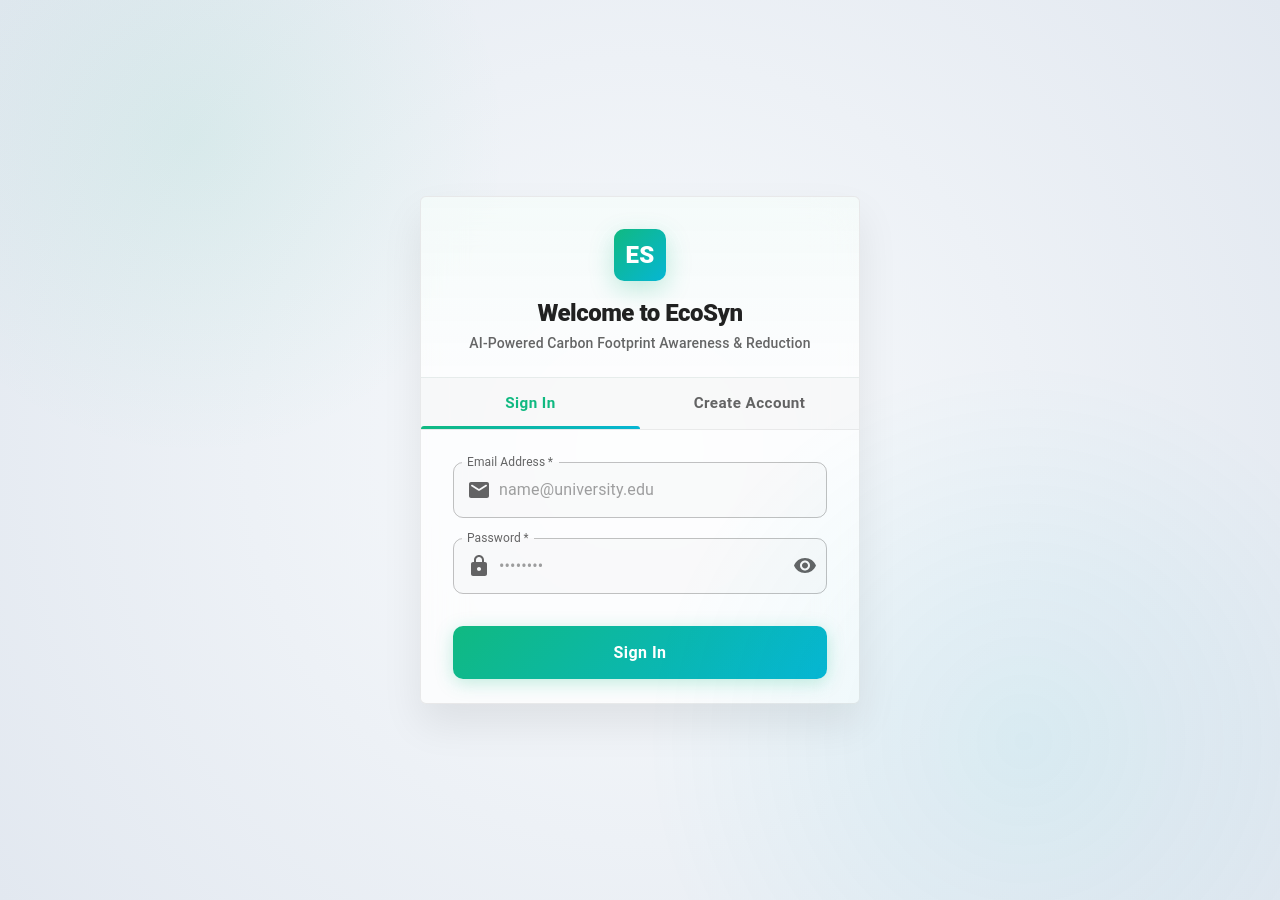
Test case: requires a name when creating an account
Click the tab "Create Account": (750, 403) x1=640 y1=378 x2=859 y2=429
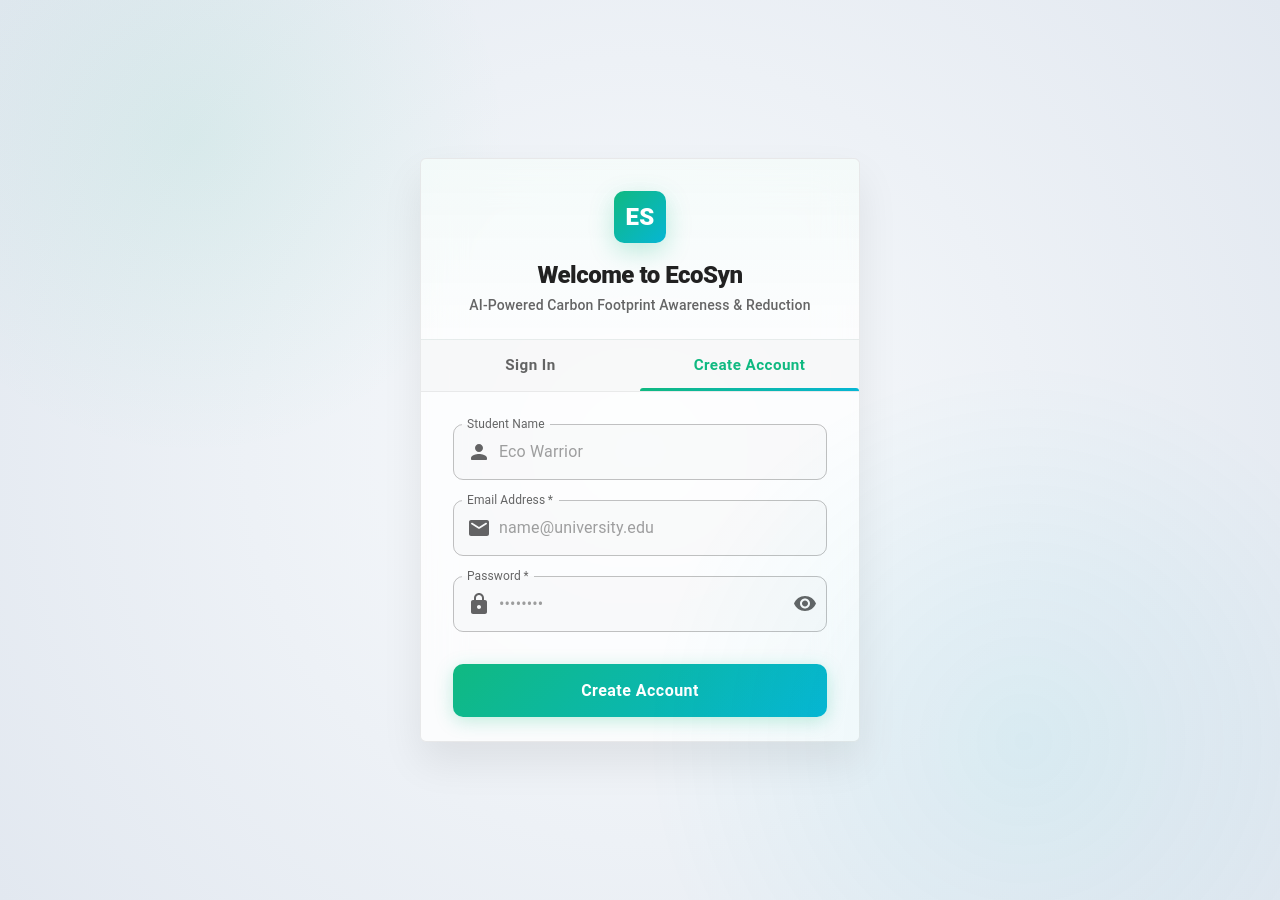
In the field labelled "Email Address *": (663, 528) x1=499 y1=500 x2=827 y2=556, type "student@example.com"
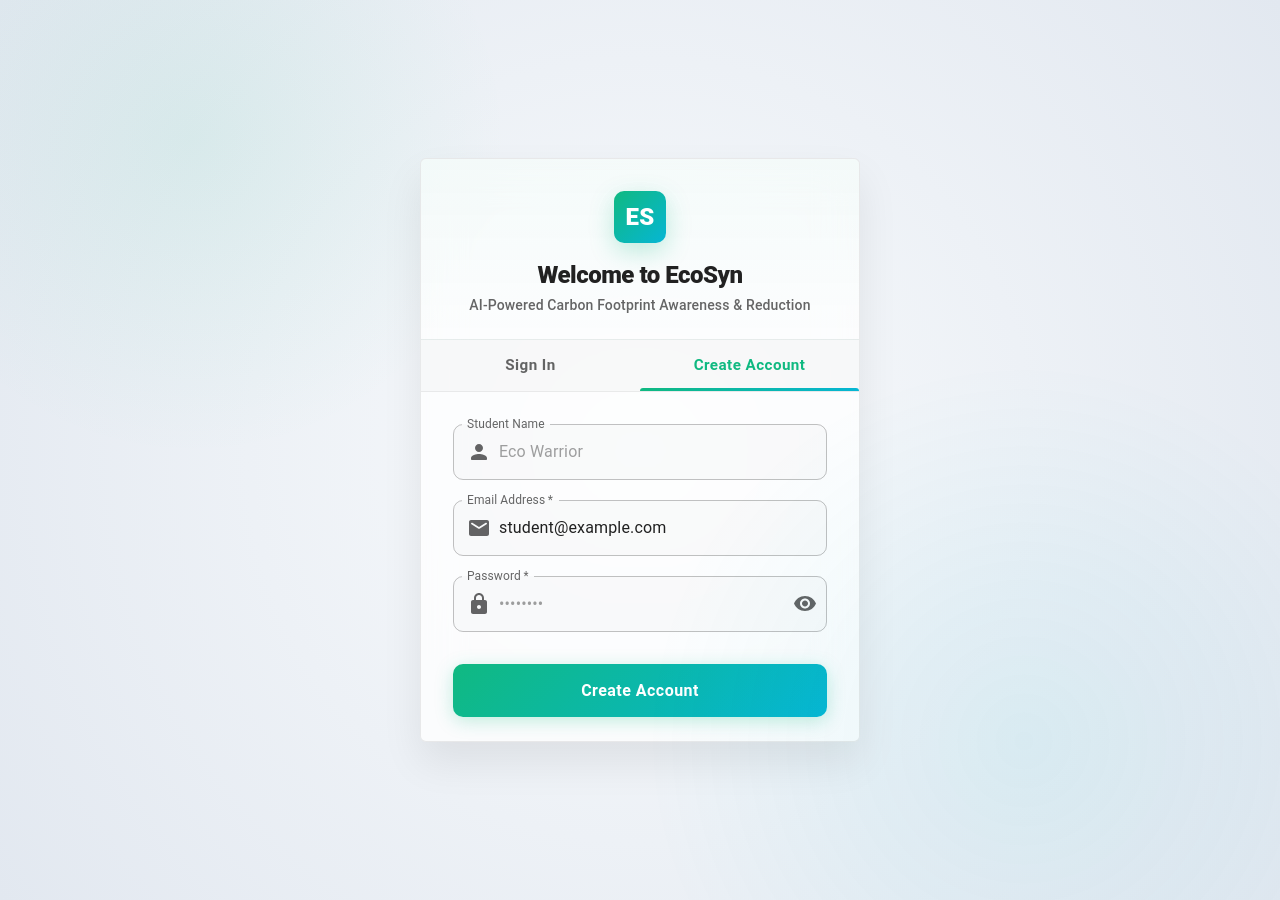
In the password field labelled "Password *": (638, 604) x1=499 y1=576 x2=777 y2=632, type "Password123!"
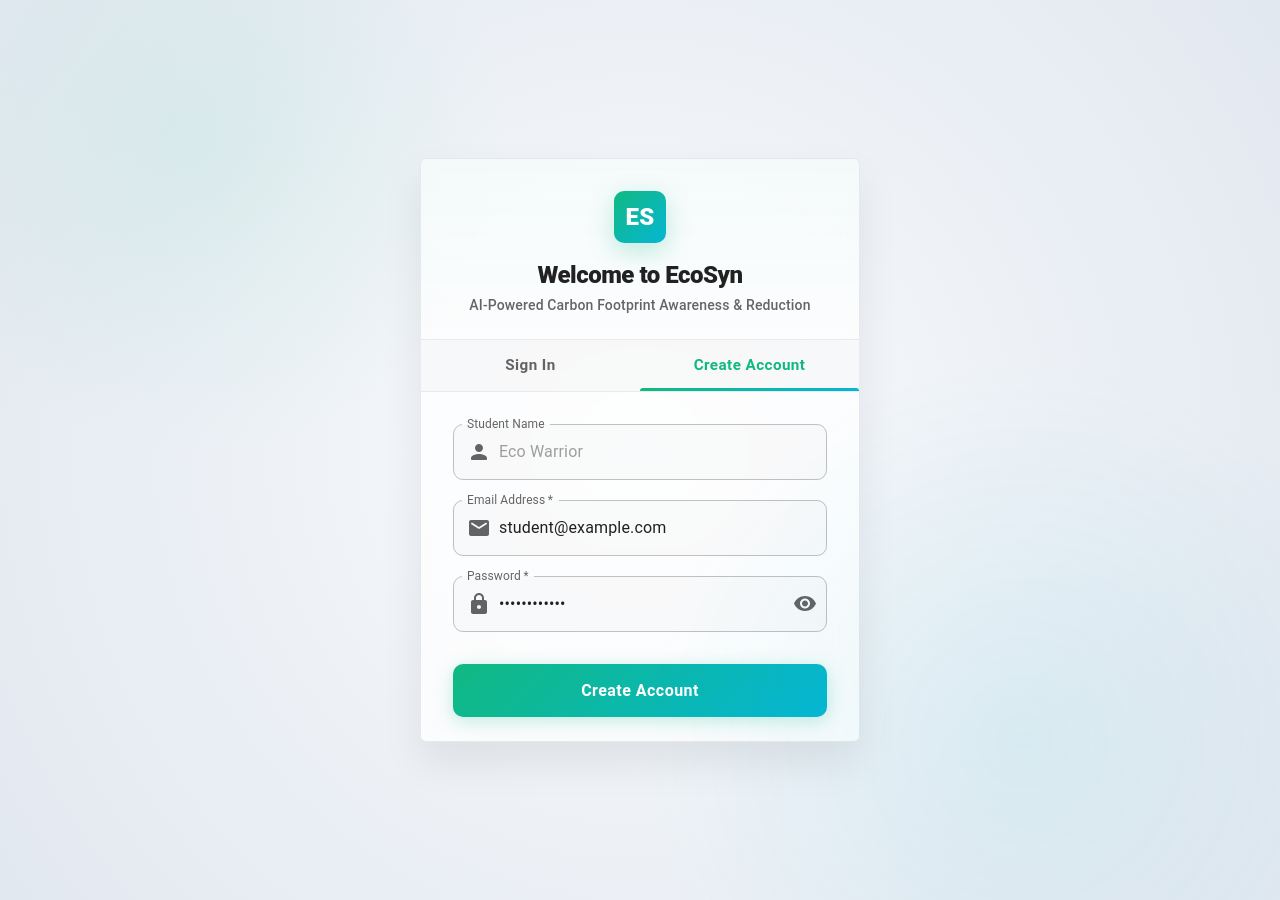
Submit the form, box x1=453 y1=424 x2=827 y2=717
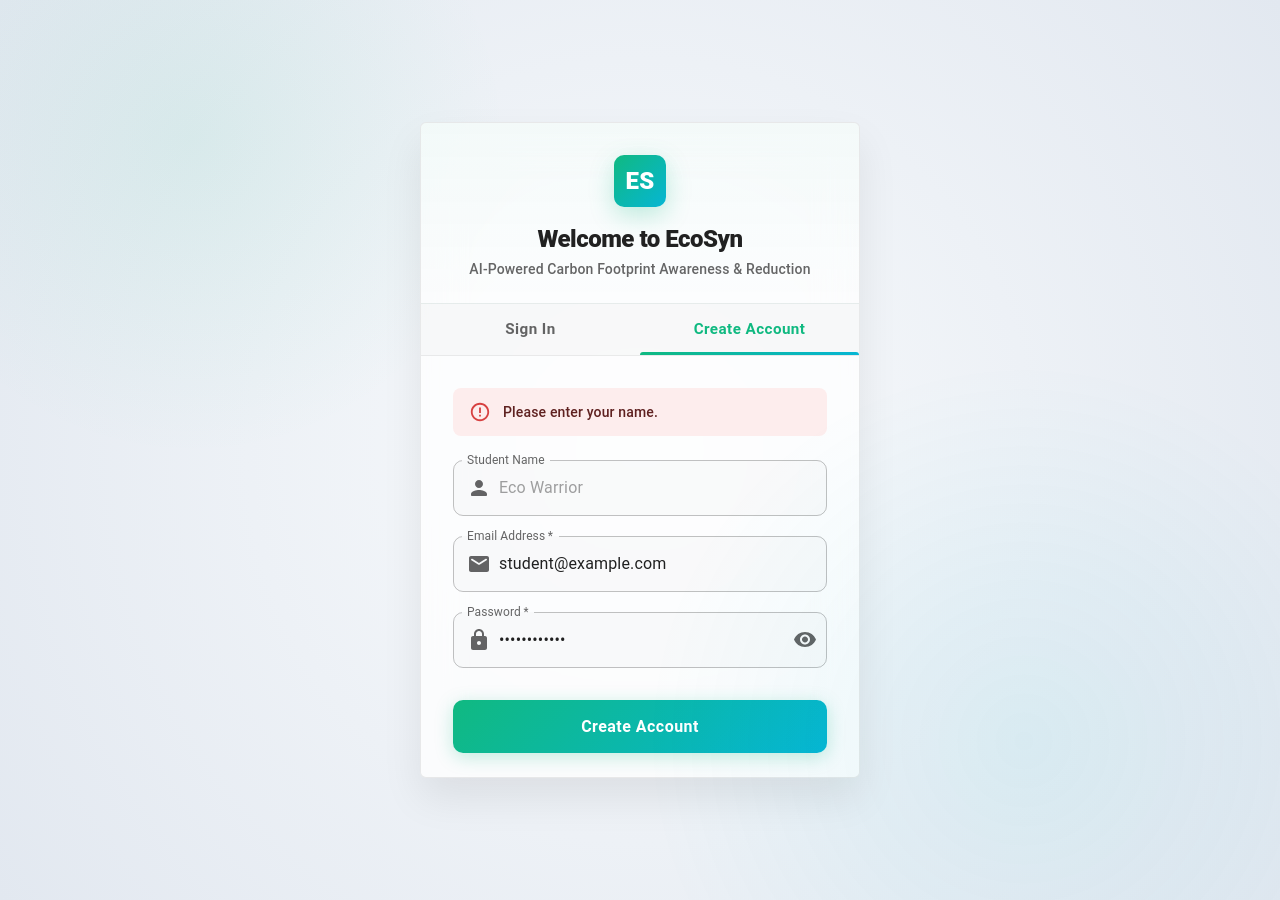
expect the text "Please enter your name." is shown: met, box x1=503 y1=404 x2=658 y2=420
